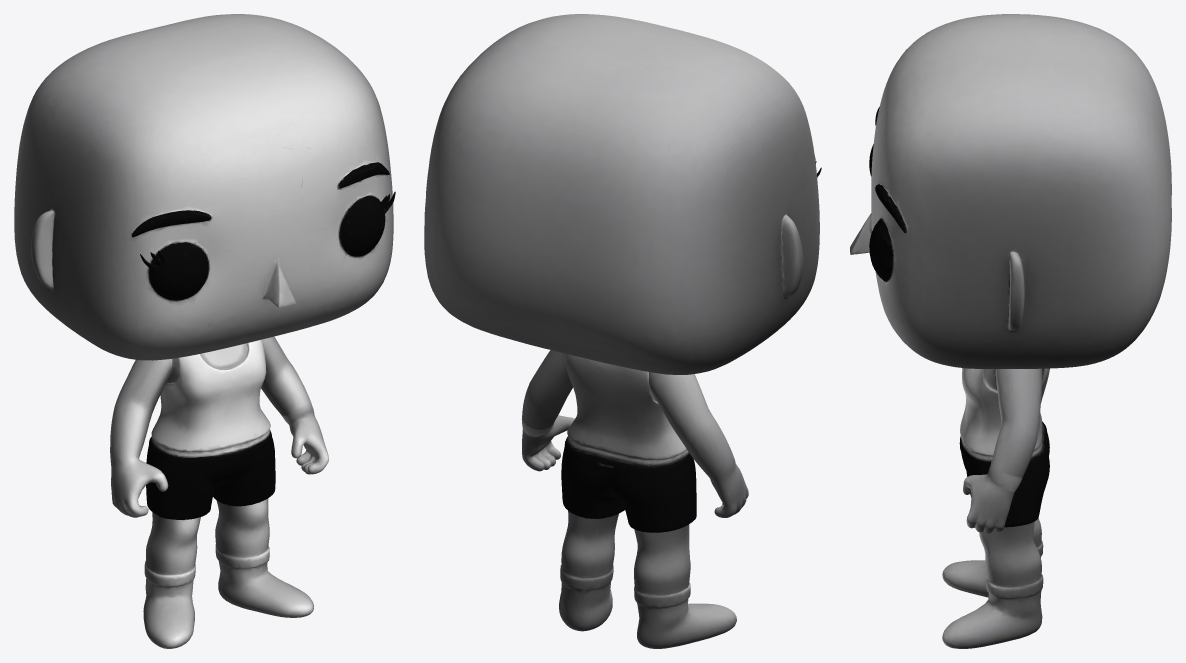
File: Funko pop-girl.glb
3 views of the same model, side by side, from view 1: azimuth 30°, elevation 25°; view 2: azimuth 150°, elevation 25°; view 3: azimuth 270°, elevation 25° (orthographic). The views are drawn at different scales.
Visible parts, largest first — view 1: world; view 2: world; view 3: world.
Part boxes in pixels (left/top/right/bottom): world: left=14, top=14, right=395, bottom=648; world: left=424, top=14, right=821, bottom=648; world: left=850, top=14, right=1171, bottom=648.
Size of the model in its own units: 0.6367 by 0.9981 by 0.5152.
1 material, 1 textured.
